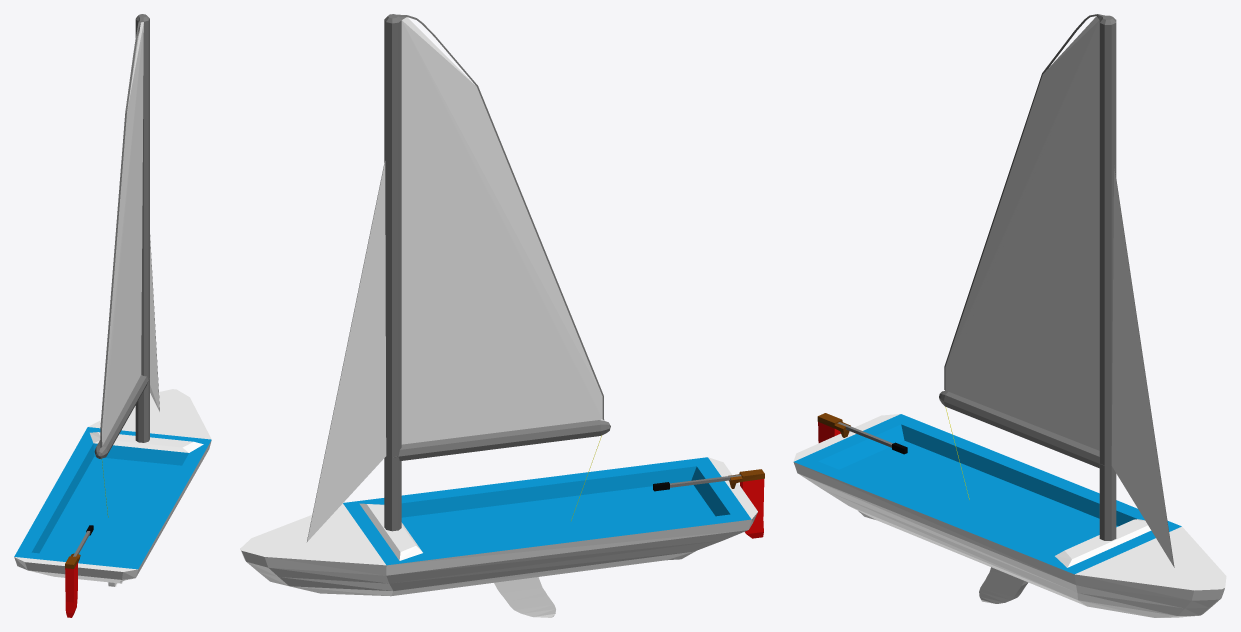
Rendered from Boat_2.fbx.
3 views of the same model, side by side, from view 1: azimuth 30°, elevation 25°; view 2: azimuth 150°, elevation 25°; view 3: azimuth 270°, elevation 25° (orthographic). The views are drawn at different scales.
Visible parts, largest first — view 1: Cube; view 2: Cube; view 3: Cube.
Part boxes in pixels (x1,y1,x2,y2): Cube: (14, 14, 211, 617); Cube: (240, 14, 764, 617); Cube: (793, 14, 1226, 617).
Bounding box in the file's own units: 9.33 × 15.53 × 9.67.
